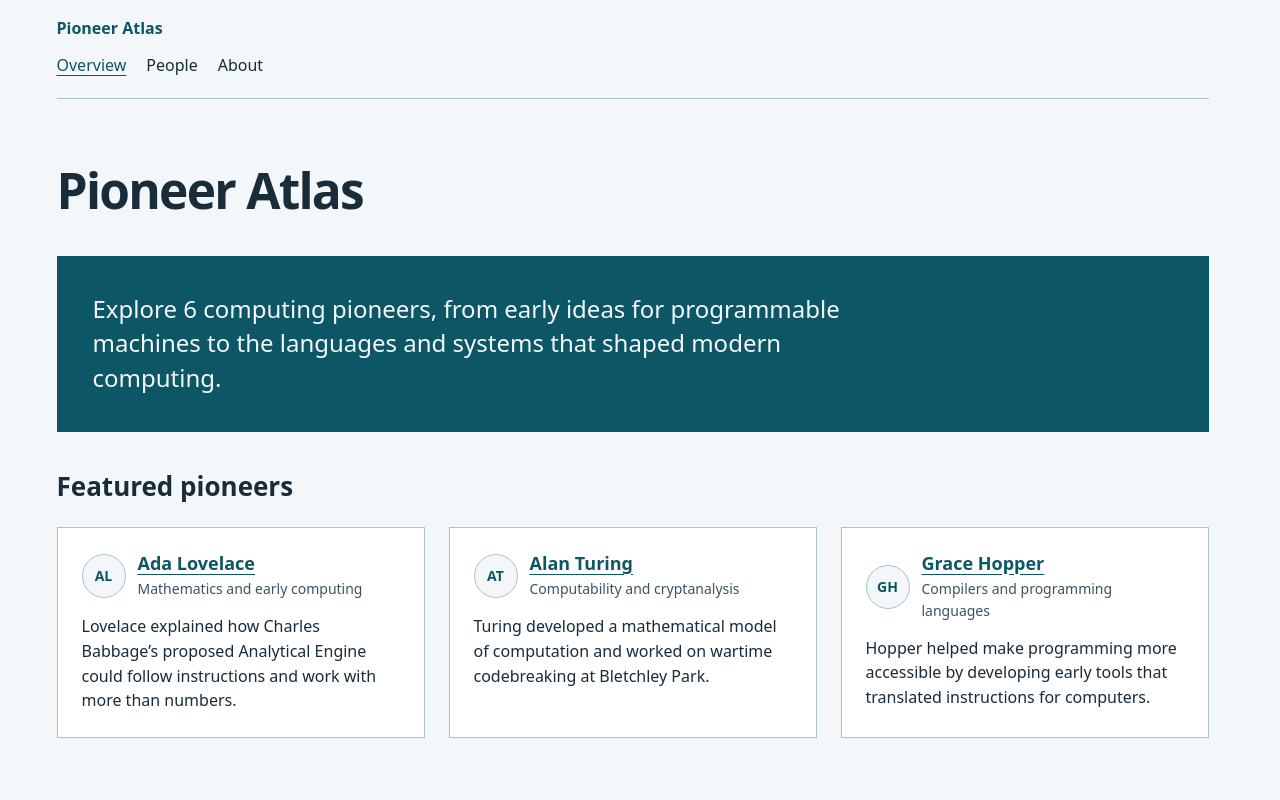
Test: lazy application routes › navigates between pages while preserving the header, main, and footer
Check: the heading "Pioneer Atlas" is shown, box [56,156,363,224]
Click the link "People" at point(172, 65), box [146,49,198,82]
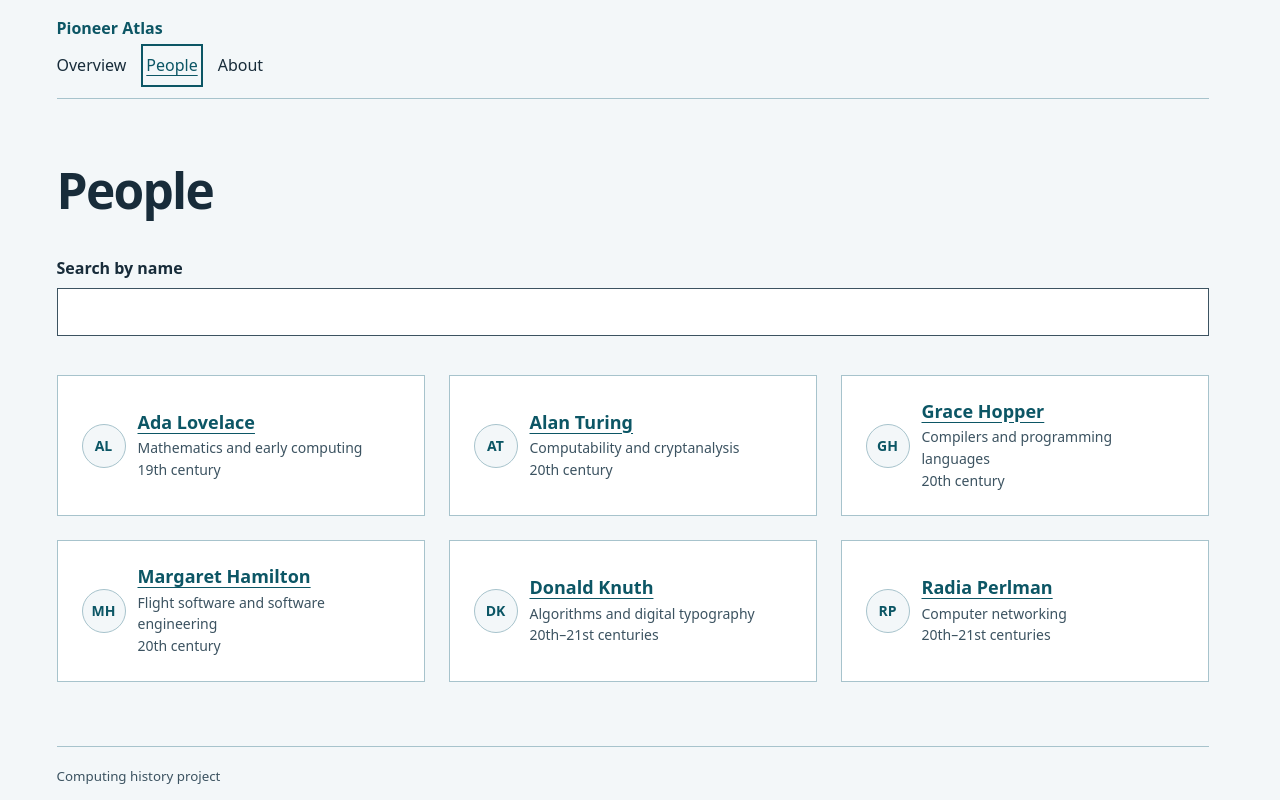
Check: the heading "People" is shown, box [56,156,213,224]
Click the link "About" at point(240, 65), box [218,49,263,82]
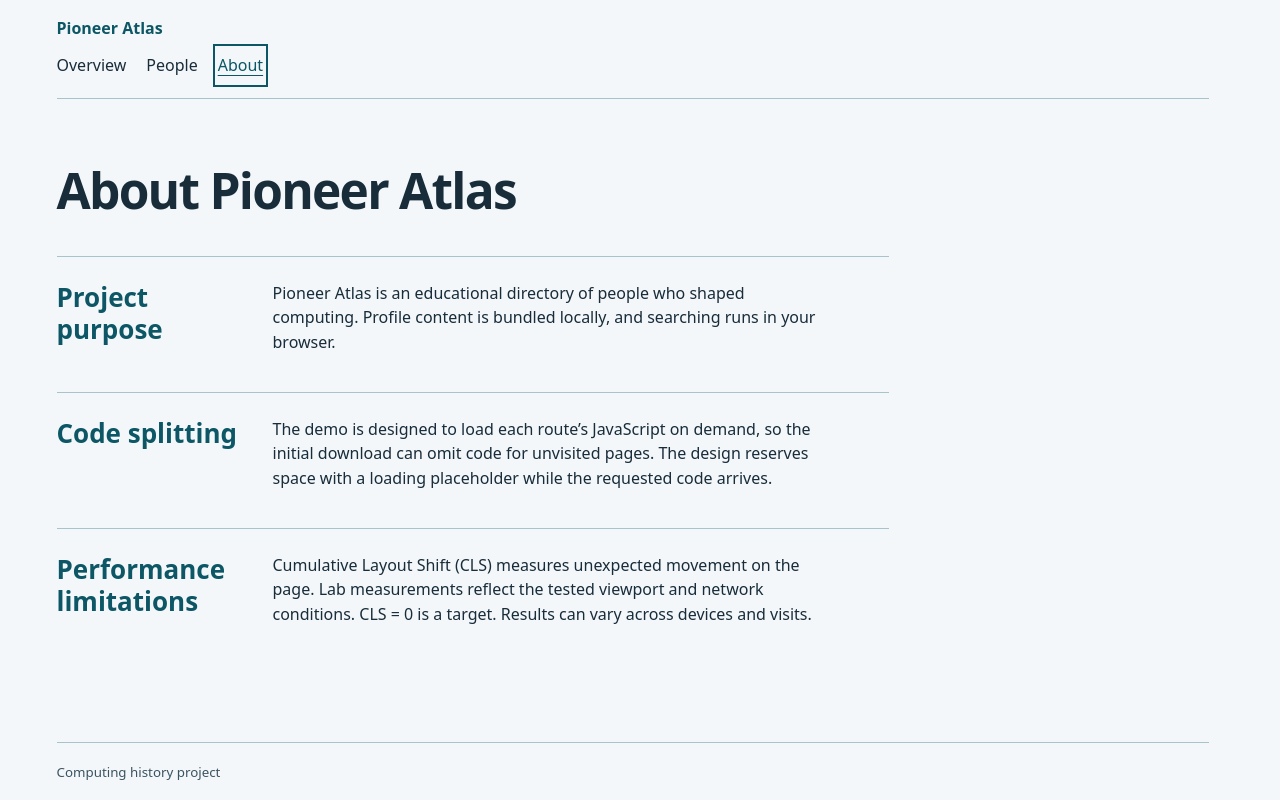
Check: the heading "About Pioneer Atlas" is shown, box [56,156,516,224]
